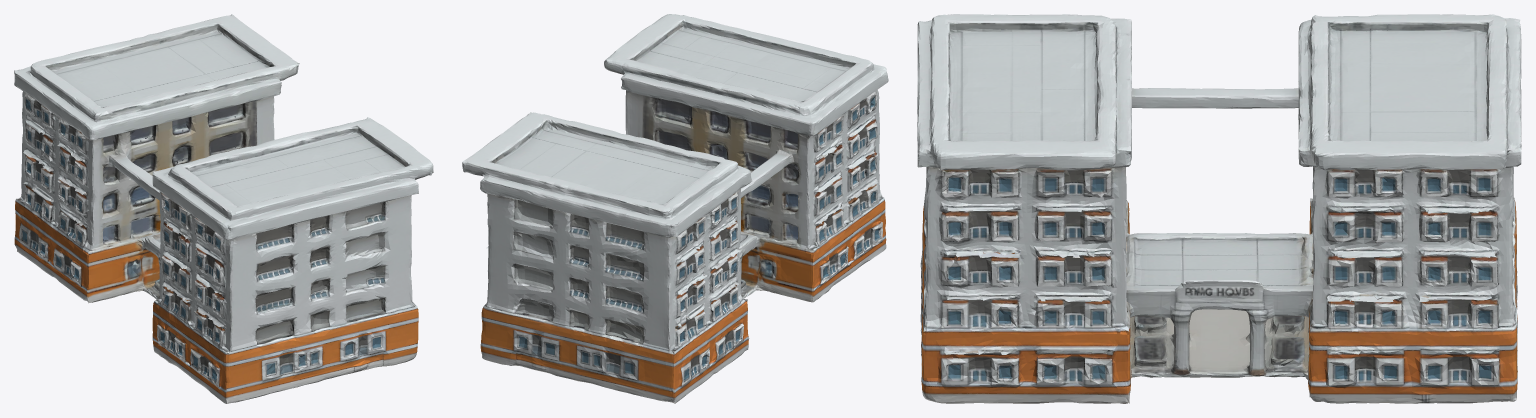
Rendered from Rajagruha_hostal.glb.
3 renders of one model, left to right at view 1: azimuth 30°, elevation 25°; view 2: azimuth 150°, elevation 25°; view 3: azimuth 270°, elevation 25°, orthographic. The views are drawn at different scales.
Parts seen in each view (by area): view 1: tripo_node_689e2b2d-3f2a-4b24-b465-256ac438db65; view 2: tripo_node_689e2b2d-3f2a-4b24-b465-256ac438db65; view 3: tripo_node_689e2b2d-3f2a-4b24-b465-256ac438db65.
Boxes of the visible parts, x1=… form: tripo_node_689e2b2d-3f2a-4b24-b465-256ac438db65: x1=14, y1=14, x2=433, y2=403; tripo_node_689e2b2d-3f2a-4b24-b465-256ac438db65: x1=462, y1=14, x2=888, y2=403; tripo_node_689e2b2d-3f2a-4b24-b465-256ac438db65: x1=917, y1=14, x2=1521, y2=403.
Size of the model in its own units: 0.5812 by 0.4847 by 0.9998.
1 material, 1 textured.
